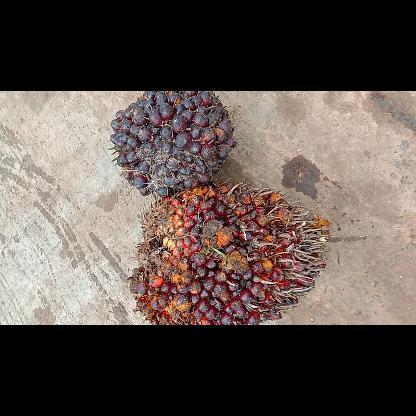TBS masak: (130, 178, 328, 324)
TBS mentah: (107, 90, 236, 196)
